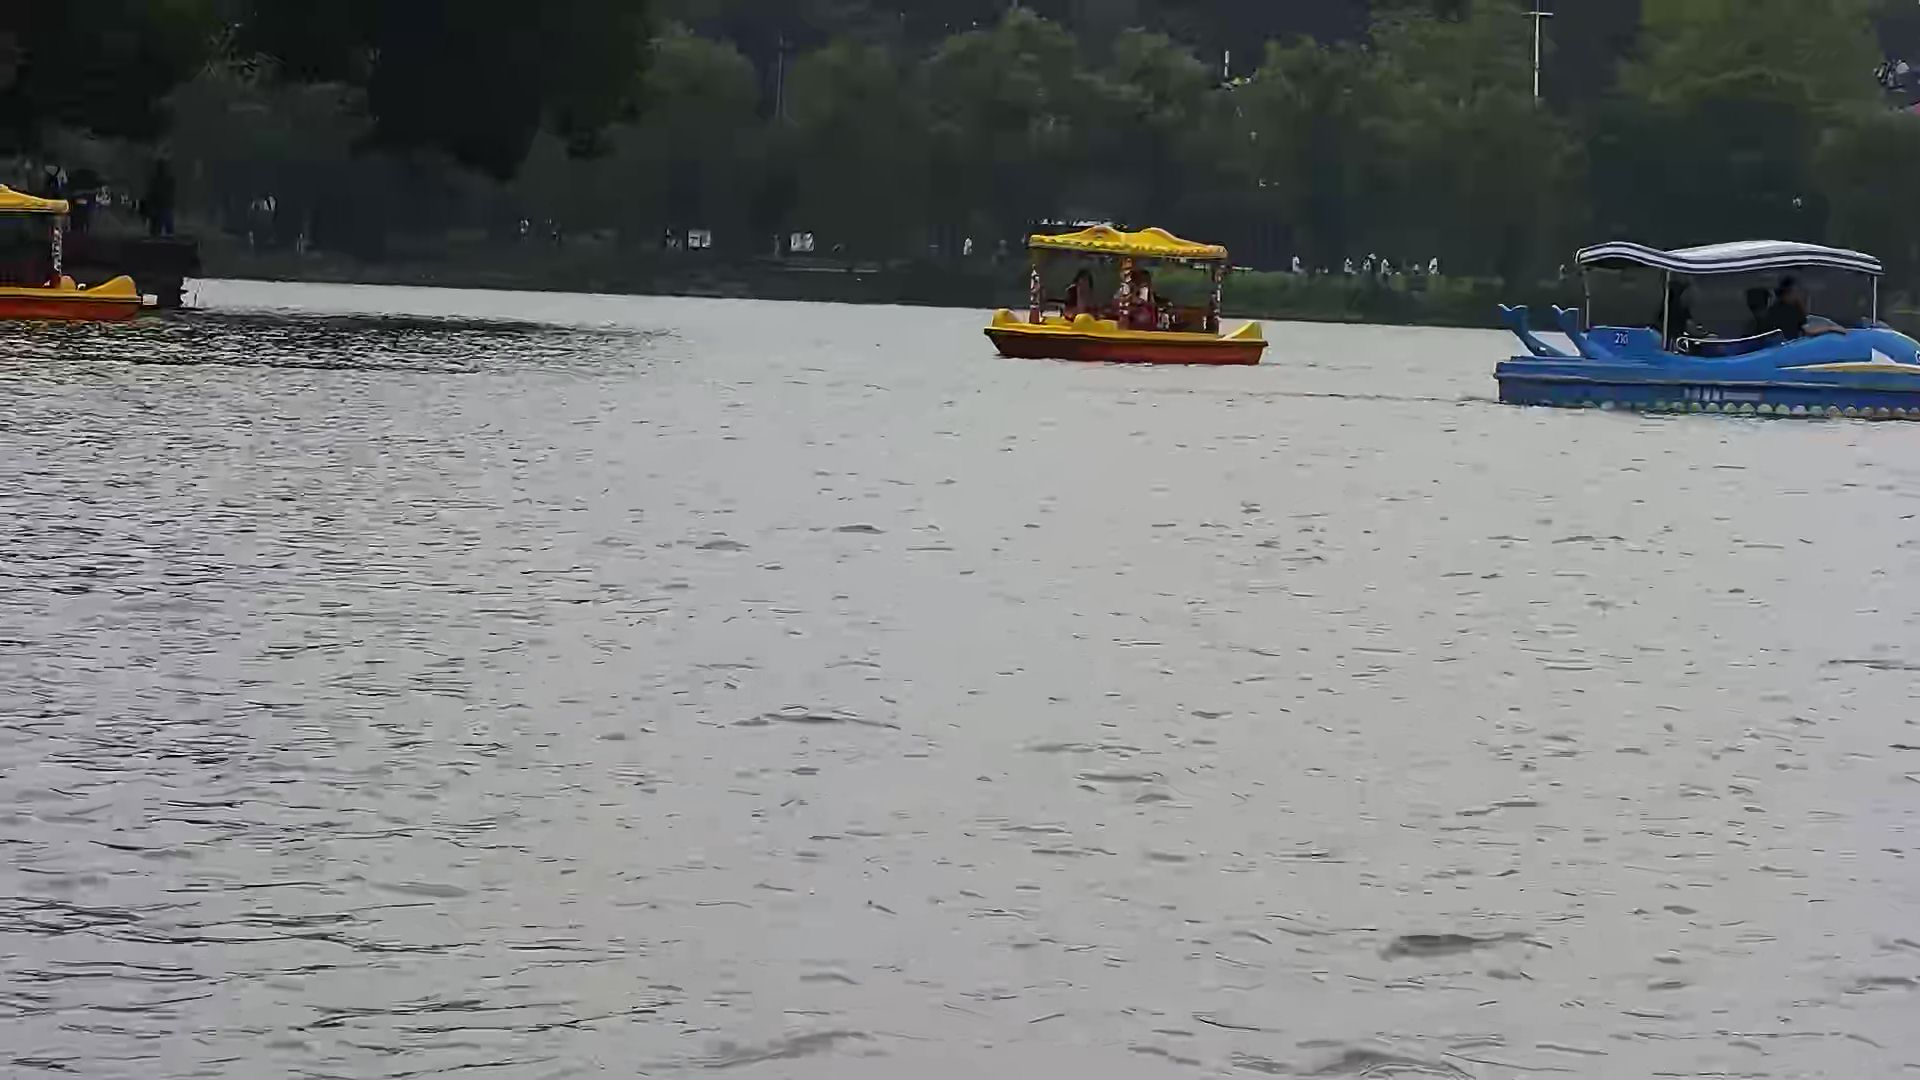boat: (1474, 220, 1909, 431), (982, 214, 1273, 367)
